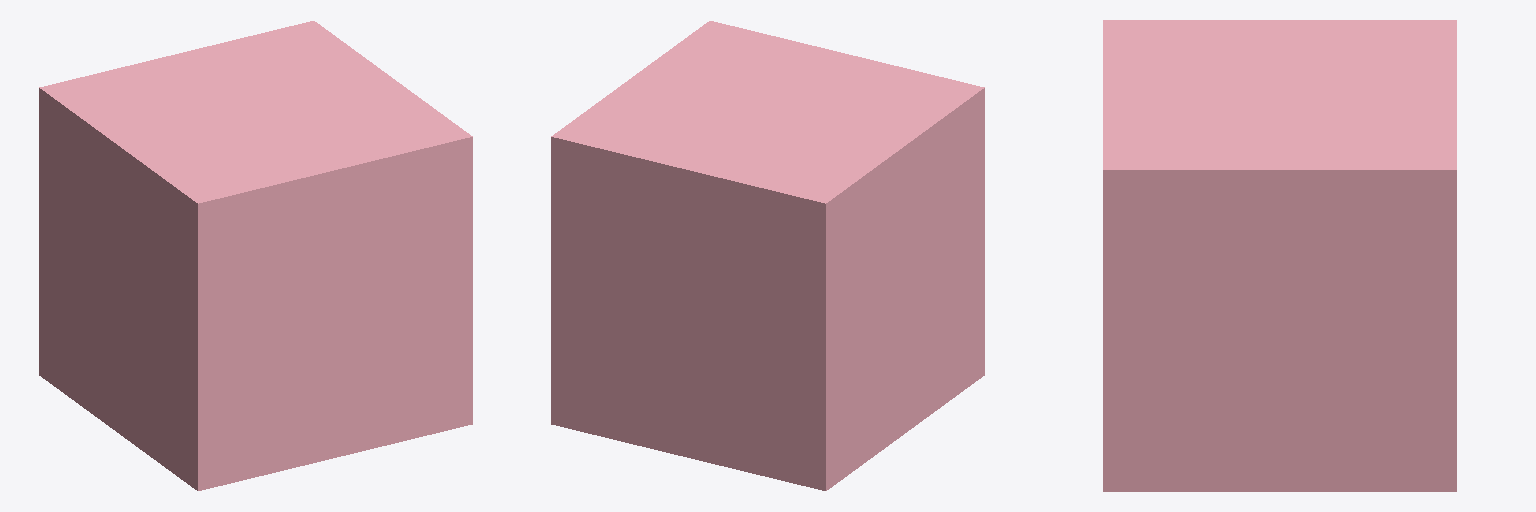
The robot description file, URDF, robot "cube":
<?xml version="1.0" ?>
<robot name="cube">
    <material name="red">
        <color rgba="0.69 0.09 0.12 1"/>
    </material>
    <material name="green">
        <color rgba="0.0 0.69 0.2 1"/>
    </material>
    <material name="blue">
        <color rgba="0.1 0.1 0.69 1"/>
    </material>
    <material name="yellow">
        <color rgba="0.8 0.8 0.0 1"/>
    </material>
    <material name="purple">
        <color rgba="0.69 0.1 0.69 1"/>
    </material>
    <material name="cyan">
        <color rgba="0.0 0.69 0.69 1"/>
    </material>
    <material name="orange">
        <color rgba="0.95 0.5 0.2 1"/>
    </material>
    <material name="pink">
        <color rgba="1 0.75 0.8 1"/>
    </material>

    <link name="cube_link">
        <contact>
          <lateral_friction value="1"/>
          <rolling_friction value="1"/>
          <spinning_friction value="1"/>

          <inertia_scaling value="0.5"/>
        </contact>
        <inertial>
          <origin rpy="0 0 0" xyz="0 0 0"/>
           <mass value="3"/>
           <inertia ixx="0.0" ixy="0.0" ixz="0.0" iyy="0.0" iyz="0.0" izz="0.0"/>
        </inertial>
        <visual>
          <origin rpy="0 0 0" xyz="0 0 0"/>
          <geometry>
            <box size=".06 .06 .06"/>
          </geometry>
          <material name="pink" />
        </visual>
        <collision>
          <origin rpy="0 0 0" xyz="0 0 0"/>
          <geometry>
            <box size=".06 .06 .06"/>
          </geometry>
        </collision>
    </link>

</robot>

--- Render facts (derived) ---
The picture shows the robot from 3 angles, left to right: view 1: azimuth 30°, elevation 25°; view 2: azimuth 150°, elevation 25°; view 3: azimuth 270°, elevation 25°; orthographic projection.
Model cube with 1 links and 0 joints (none), rooted at cube_link, posed every joint at zero.
Visible links, largest first — view 1: cube_link; view 2: cube_link; view 3: cube_link.
Boxes of the visible links, box(x1,y1,x2,y2) form: cube_link: box(39, 21, 472, 490); cube_link: box(551, 21, 984, 490); cube_link: box(1103, 20, 1456, 491).
Bounding box of the posed robot: 0.06 × 0.06 × 0.06 m (x, y, z).
Geometry: primitives only (box / cylinder / sphere), no mesh files.